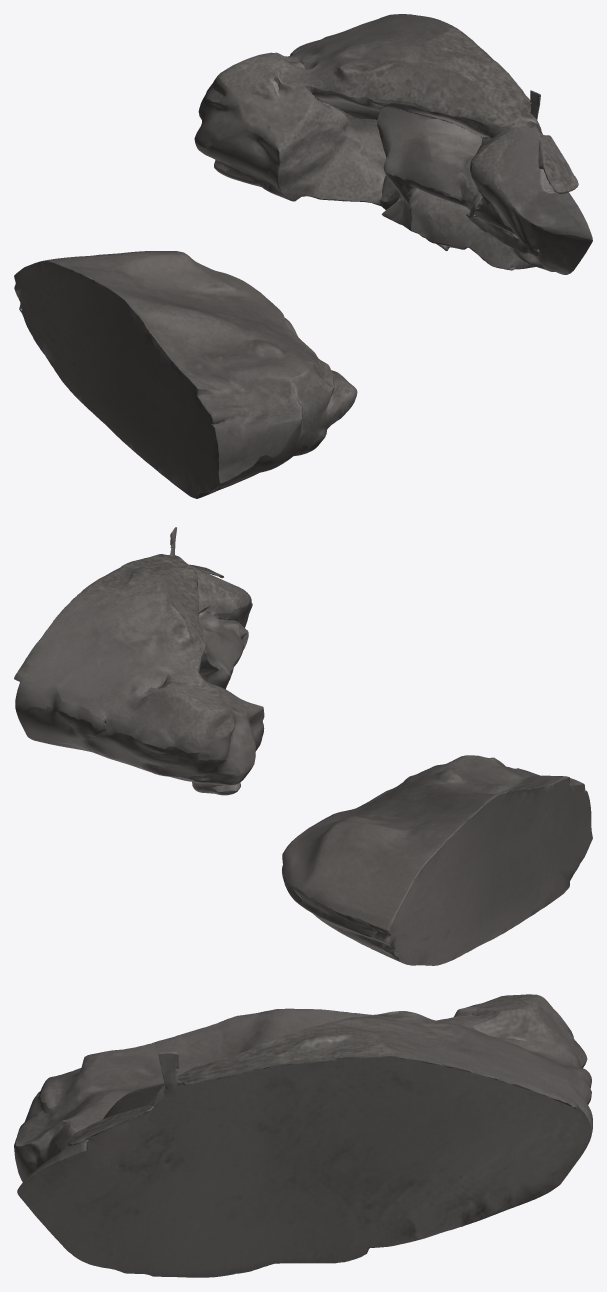
3 renders of one model, top to bottom at view 1: azimuth 30°, elevation 25°; view 2: azimuth 150°, elevation 25°; view 3: azimuth 270°, elevation 25°, orthographic. The views are drawn at different scales.
Visible parts, largest first — view 1: world; view 2: world; view 3: world.
Part boxes in pixels (x1,y1,x2,y2): world: [14, 14, 592, 498]; world: [14, 527, 592, 965]; world: [14, 994, 592, 1277].
Size of the model in its own units: 1.2 by 0.9039 by 1.2.
Materials: 1 (1 with a texture image).
